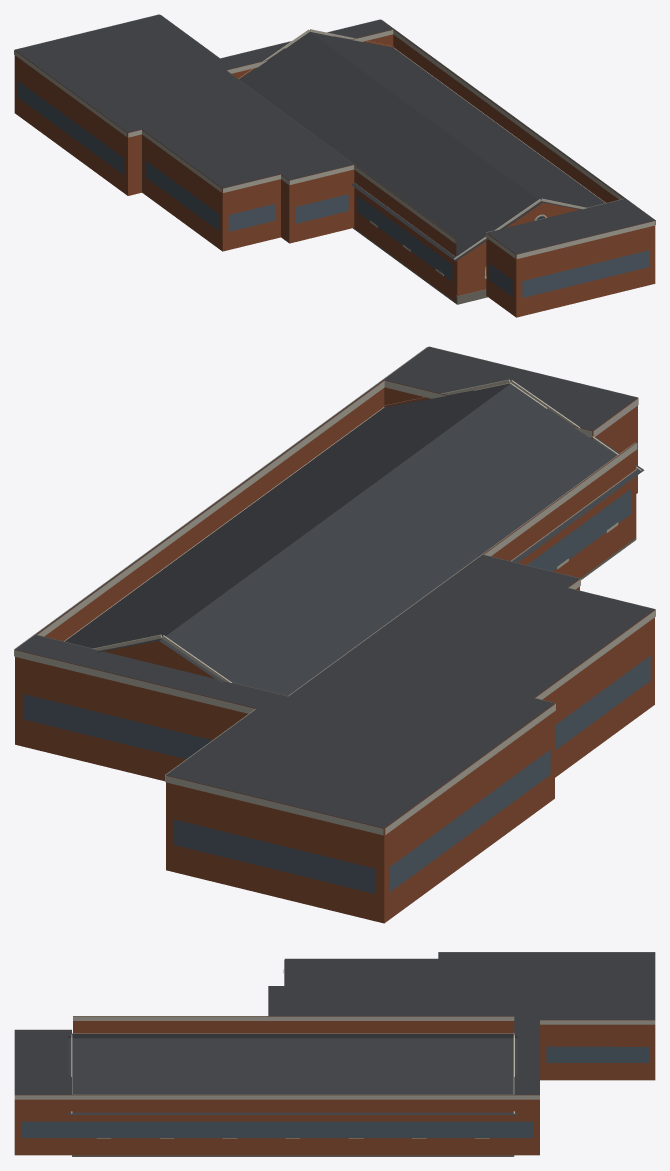
The model's file is greater-archview-baptist.glb.
The picture shows the model from 3 angles, top to bottom: view 1: azimuth 30°, elevation 25°; view 2: azimuth 150°, elevation 25°; view 3: azimuth 270°, elevation 25°; orthographic projection. The views are drawn at different scales.
Parts seen in each view (by area): view 1: greater_archview_baptist; view 2: greater_archview_baptist; view 3: greater_archview_baptist.
Part boxes in pixels (bbox=[...]): greater_archview_baptist: bbox=[14, 14, 655, 317]; greater_archview_baptist: bbox=[14, 346, 655, 923]; greater_archview_baptist: bbox=[14, 952, 655, 1156].
Size of the model in its own units: 32.46 by 8.69 by 61.09.
